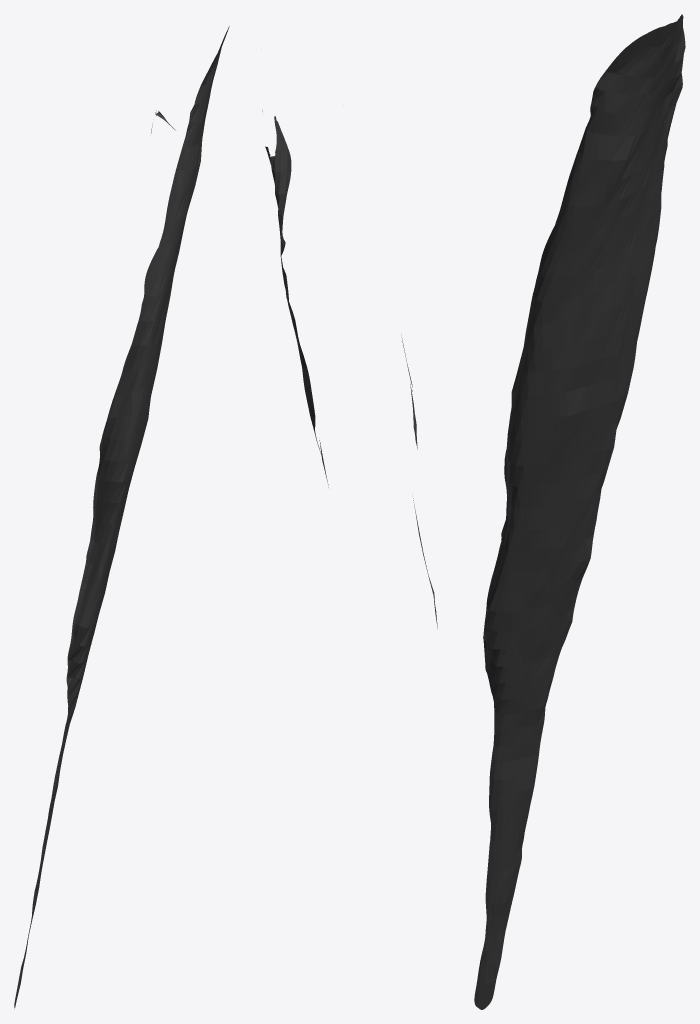
Rendered from FCU_ulnare.glb.
3 views of the same model, side by side, from view 1: azimuth 30°, elevation 25°; view 2: azimuth 150°, elevation 25°; view 3: azimuth 330°, elevation 25° (orthographic). The views are drawn at different scales.
Visible parts, largest first — view 1: FCU_ulnare; view 2: FCU_ulnare; view 3: FCU_ulnare.
Boxes of the visible parts, x1,y1,x2,y2 form: FCU_ulnare: (14,26,229,1008); FCU_ulnare: (262,110,437,628); FCU_ulnare: (474,14,685,1009).
Size of the model in its own units: 0.062 by 0.2851 by 0.0324.
1 material, 1 textured.
